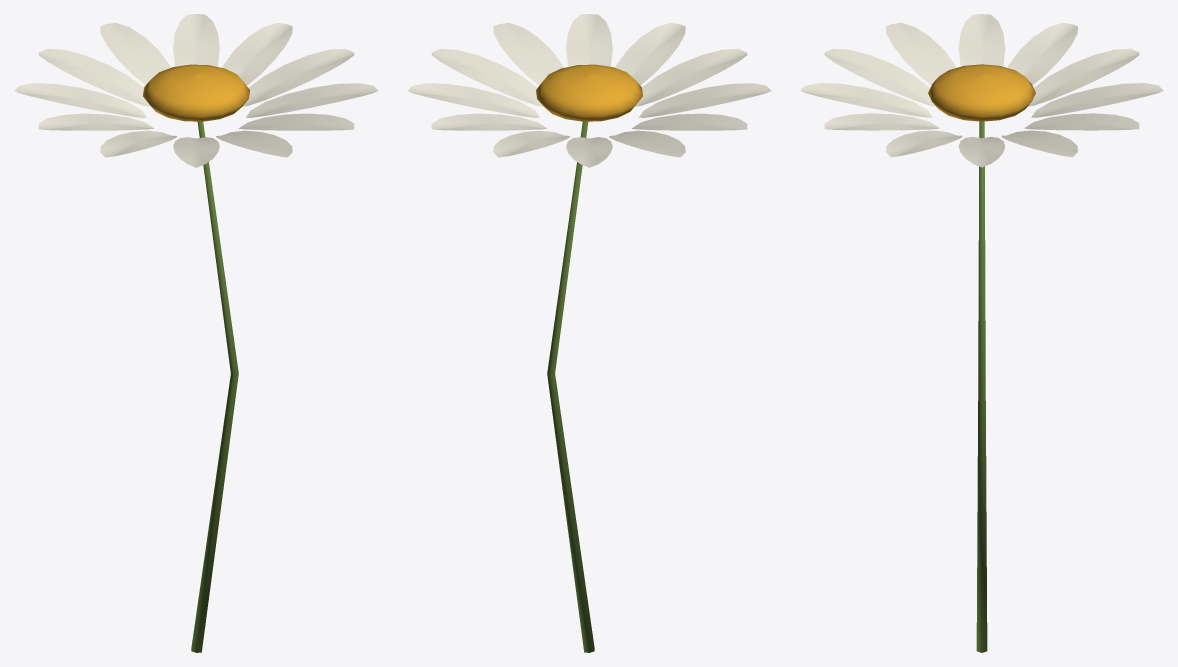
The model's file is daisy.glb.
The picture shows the model from 3 angles, left to right: view 1: azimuth 30°, elevation 25°; view 2: azimuth 150°, elevation 25°; view 3: azimuth 270°, elevation 25°; orthographic projection.
Parts seen in each view (by area): view 1: RM_Daisy_Petals, RM_Daisy_Center, RM_Daisy_Stem; view 2: RM_Daisy_Petals, RM_Daisy_Center, RM_Daisy_Stem; view 3: RM_Daisy_Petals, RM_Daisy_Center, RM_Daisy_Stem.
Boxes of the visible parts, x1=… form: RM_Daisy_Petals: x1=14, y1=14, x2=378, y2=167; RM_Daisy_Center: x1=143, y1=64, x2=249, y2=121; RM_Daisy_Stem: x1=191, y1=121, x2=238, y2=652; RM_Daisy_Petals: x1=407, y1=14, x2=771, y2=167; RM_Daisy_Center: x1=536, y1=64, x2=642, y2=121; RM_Daisy_Stem: x1=547, y1=121, x2=594, y2=652; RM_Daisy_Petals: x1=800, y1=14, x2=1163, y2=167; RM_Daisy_Center: x1=928, y1=64, x2=1035, y2=121; RM_Daisy_Stem: x1=976, y1=121, x2=987, y2=652.
Bounding box in the file's own units: 0.148 × 0.2584 × 0.148.
